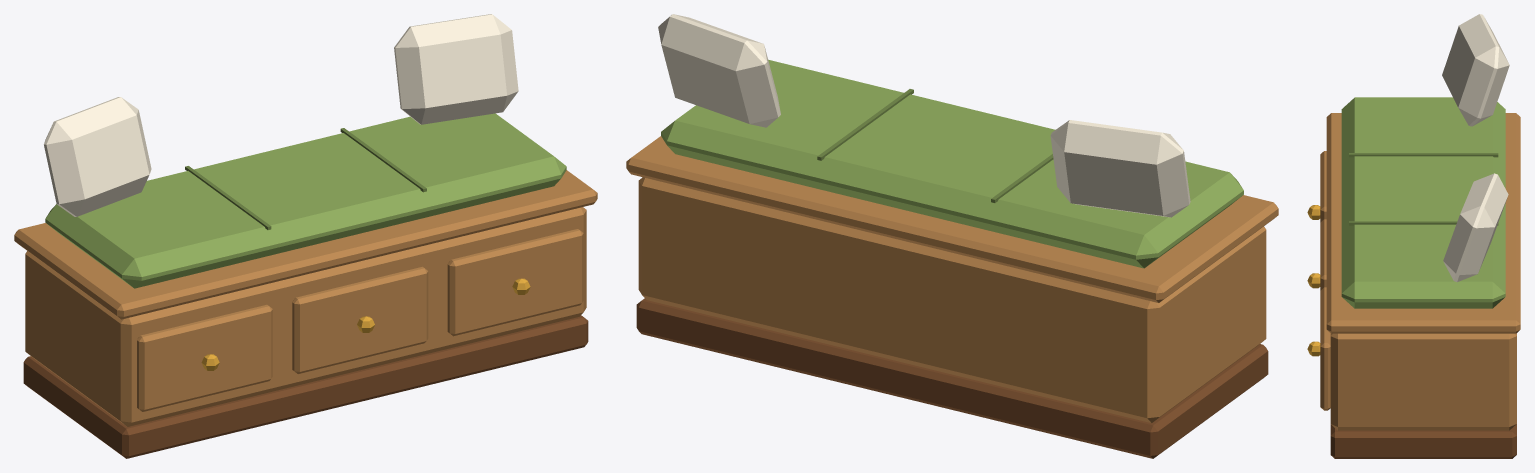
Rendered from window_seat_bench.glb.
3 renders of one model, left to right at view 1: azimuth 30°, elevation 25°; view 2: azimuth 150°, elevation 25°; view 3: azimuth 270°, elevation 25°, orthographic. The views are drawn at different scales.
Parts seen in each view (by area): view 1: window_seat_bench; view 2: window_seat_bench; view 3: window_seat_bench.
Boxes of the visible parts, box(x1,y1,x2,y2) form: window_seat_bench: box(14, 14, 597, 458); window_seat_bench: box(626, 14, 1278, 458); window_seat_bench: box(1307, 14, 1520, 458).
Size of the model in its own units: 1.34 by 0.7357 by 0.572.
